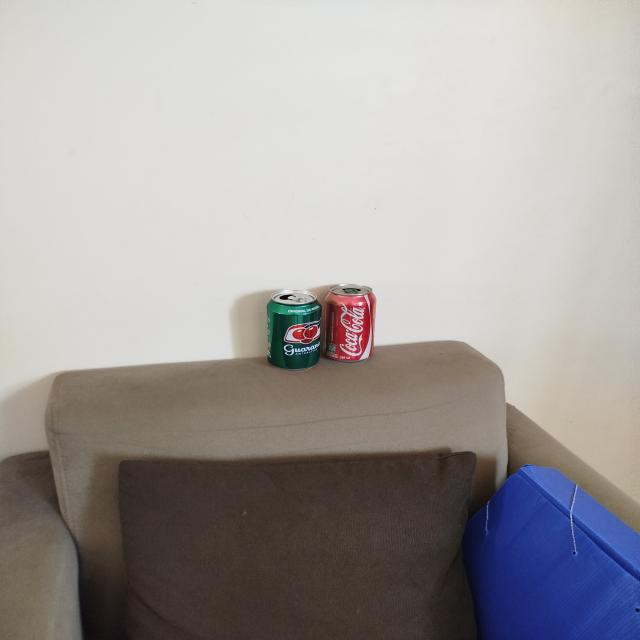Coca Cola: (324, 284, 378, 363)
Guarana: (266, 290, 324, 369)
